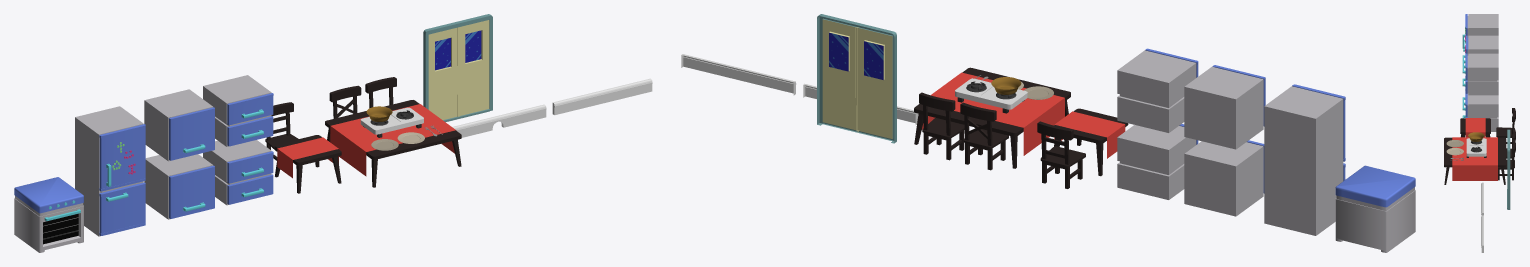
File: Kitchen assets 01.fbx
3 renders of one model, left to right at view 1: azimuth 30°, elevation 25°; view 2: azimuth 150°, elevation 25°; view 3: azimuth 270°, elevation 25°, orthographic. The views are drawn at different scales.
Parts seen in each view (by area): view 1: Fridge, Door, Oven, Cabinet 2, Cabinet 1, Cabinet 4, Cabinet 3, Tablecloth 1, Table large, Baseboard, Baseboard with hole, Tablecloth 2 (+5 smaller); view 2: Fridge, Door, Oven, Cabinet 2, Cabinet 1, Cabinet 4, Cabinet 3, Tablecloth 1, Table large, Chair 3, Chair 2, Chair (+6 smaller); view 3: Tablecloth 1, Cabinet 4, Cabinet 3, Fridge, Cabinet 2, Table large, Stove 1, Tablecloth 2, Door, Chair 3, Table small, Chair (+6 smaller).
Boxes of the visible parts, x1=… form: Fridge: x1=75, y1=106, x2=145, y2=236; Door: x1=423, y1=14, x2=492, y2=122; Oven: x1=14, y1=177, x2=83, y2=252; Cabinet 2: x1=144, y1=89, x2=214, y2=161; Cabinet 1: x1=144, y1=154, x2=214, y2=219; Cabinet 4: x1=203, y1=75, x2=273, y2=146; Cabinet 3: x1=203, y1=140, x2=273, y2=205; Tablecloth 1: x1=330, y1=104, x2=456, y2=176; Table large: x1=325, y1=100, x2=461, y2=187; Baseboard: x1=552, y1=78, x2=652, y2=115; Baseboard with hole: x1=452, y1=104, x2=546, y2=137; Tablecloth 2: x1=277, y1=137, x2=338, y2=178; Fridge: x1=1264, y1=84, x2=1345, y2=235; Door: x1=817, y1=14, x2=896, y2=143; Oven: x1=1335, y1=165, x2=1415, y2=252; Cabinet 2: x1=1184, y1=65, x2=1265, y2=149; Cabinet 1: x1=1184, y1=140, x2=1264, y2=216; Cabinet 4: x1=1117, y1=48, x2=1198, y2=132; Cabinet 3: x1=1117, y1=124, x2=1198, y2=199; Tablecloth 1: x1=922, y1=72, x2=1064, y2=155; Table large: x1=914, y1=67, x2=1070, y2=168; Chair 3: x1=1037, y1=121, x2=1085, y2=188; Chair 2: x1=960, y1=102, x2=1008, y2=170; Chair: x1=919, y1=92, x2=964, y2=160; Tablecloth 1: x1=1452, y1=137, x2=1497, y2=180; Cabinet 4: x1=1462, y1=53, x2=1498, y2=95; Cabinet 3: x1=1462, y1=91, x2=1498, y2=131; Fridge: x1=1462, y1=14, x2=1498, y2=90; Cabinet 2: x1=1462, y1=35, x2=1498, y2=68; Table large: x1=1444, y1=137, x2=1506, y2=184; Stove 1: x1=1466, y1=138, x2=1486, y2=157; Tablecloth 2: x1=1465, y1=118, x2=1485, y2=137; Door: x1=1507, y1=129, x2=1510, y2=209; Chair 3: x1=1496, y1=108, x2=1515, y2=148; Table small: x1=1460, y1=118, x2=1490, y2=137; Chair: x1=1498, y1=139, x2=1515, y2=180.
Bounding box in the file's own units: 1472 × 230 × 231.
